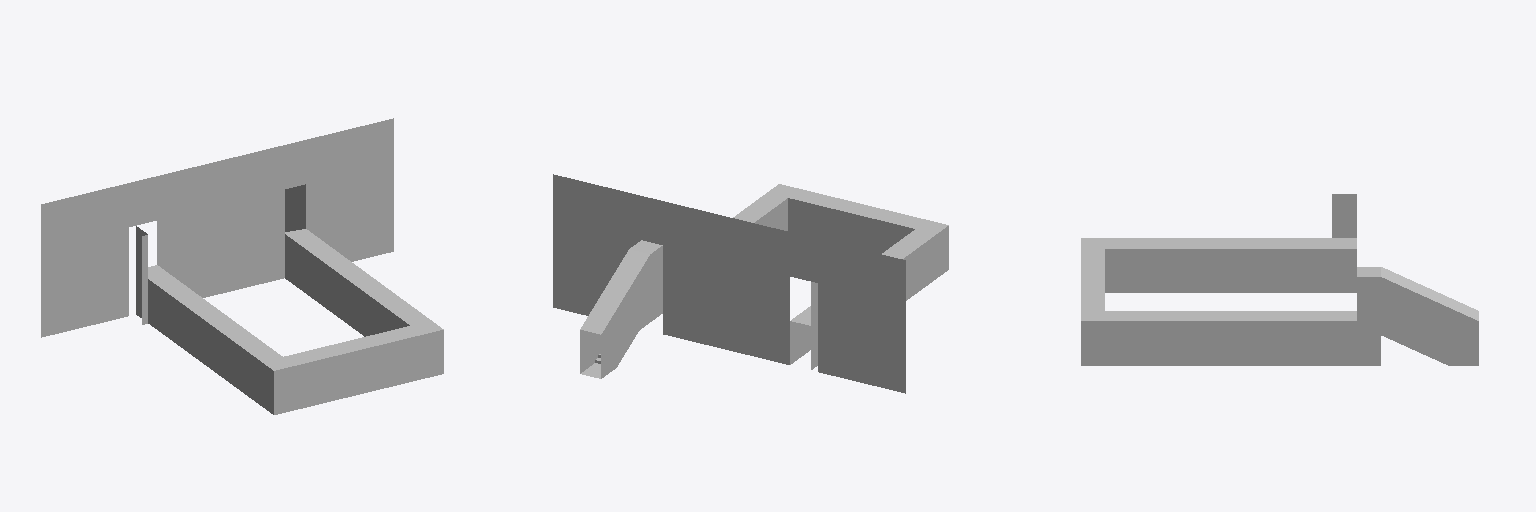
Rendered from floor_new_drop_path.obj.
The picture shows the model from 3 angles: view 1: azimuth 30°, elevation 25°; view 2: azimuth 150°, elevation 25°; view 3: azimuth 270°, elevation 25°; orthographic projection.
Bounding box in the file's own units: 1664 × 600 × 1624.